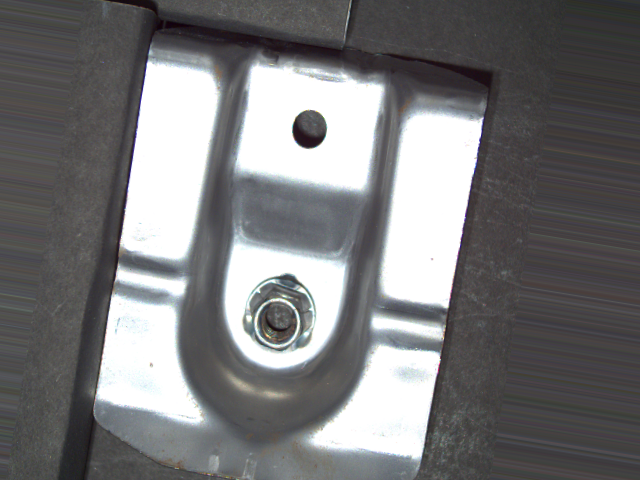good: (238, 271, 319, 357)
